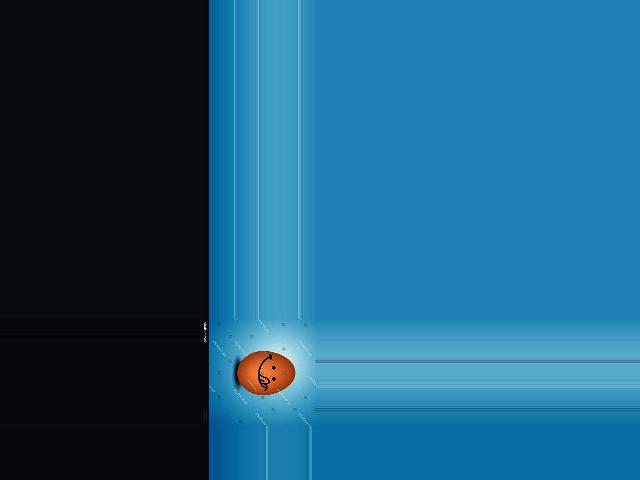egg: (237, 351, 295, 395)
